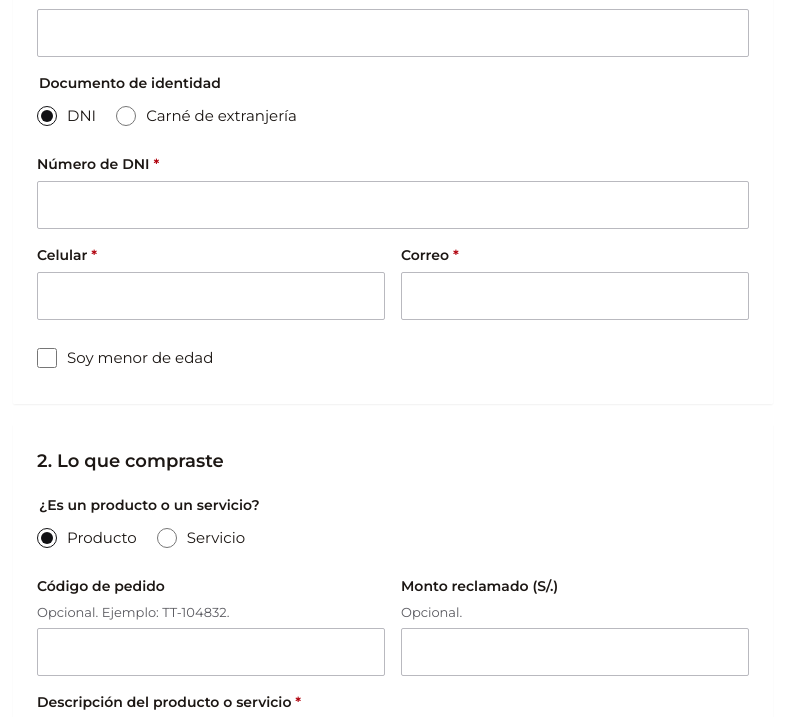
LibroReclamacionesPage › pide el nombre del apoderado solo para menores de edad
The image size is (787, 717).
(page scrolled)
expect the field labelled "apoderado" is not shown: met
Click the checkbox labelled "Soy menor de edad".
click(47, 358)  # box top-left (37, 348), bottom-right (57, 368)
(page scrolled)
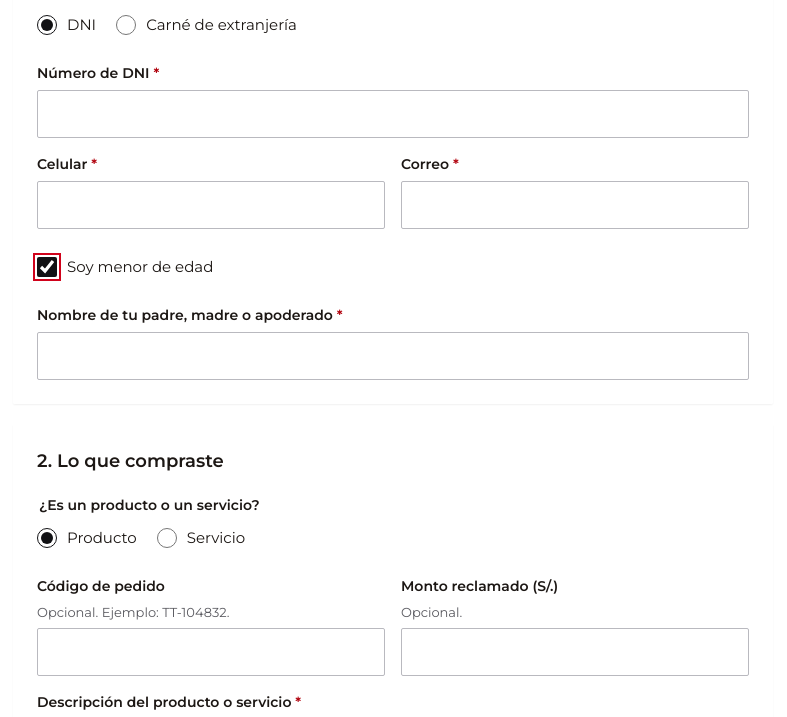
expect the field labelled "Nombre de tu padre, madre o apoderado *" is shown: met, box top-left (37, 332), bottom-right (749, 380)
